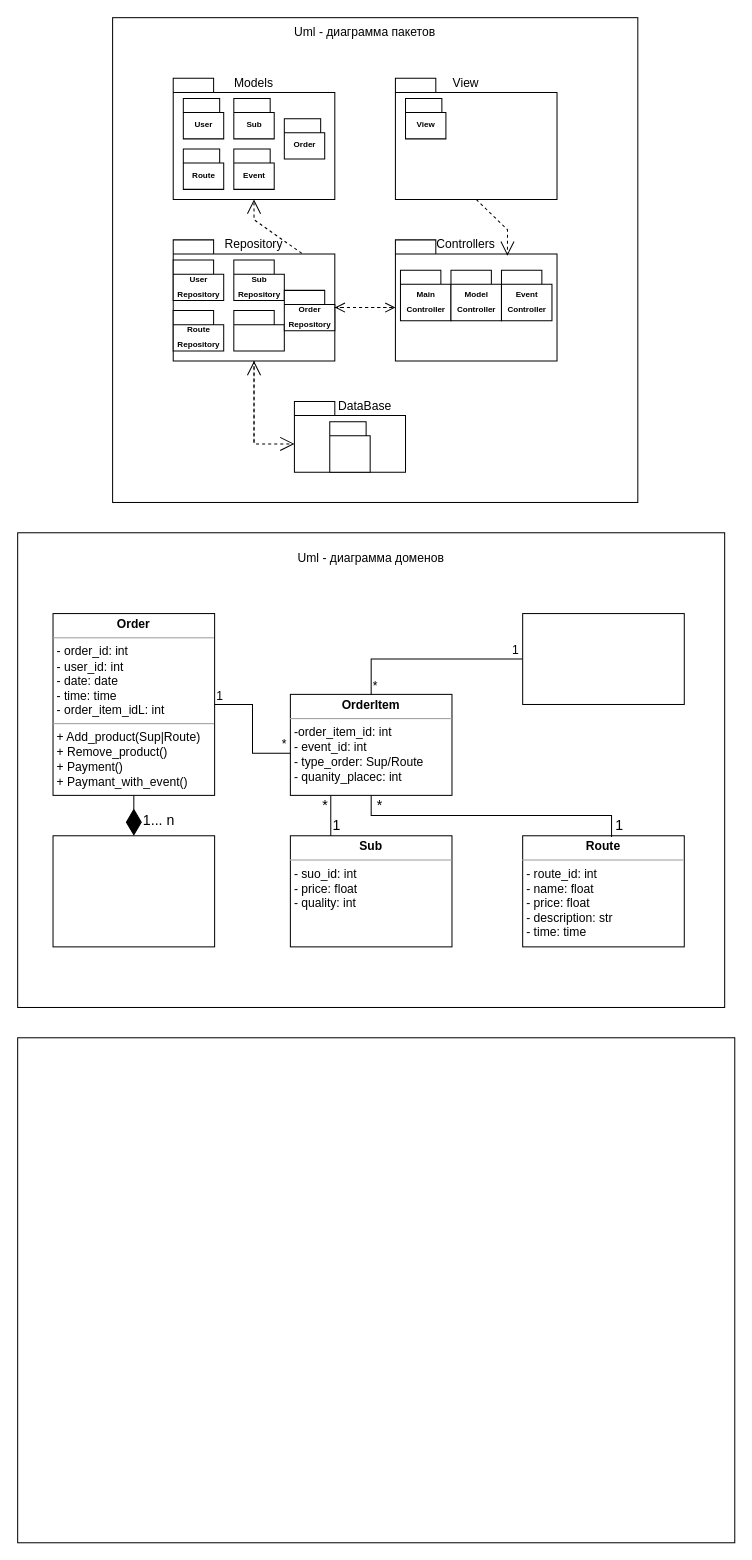
Some shapes in this 752 by 1560 pixel diagram are drawn without their labels. Here are the shapes that lost their labels. From the top down, the box of each, then its label:
(233, 310, 284, 351): Event Repository
(329, 421, 370, 472): Data Base
(522, 613, 684, 704): Event - event_id: int - event_name: str - evnt_sales: float
(52, 835, 215, 947): User - user_id: int - name: str - surname: str - phone: int - email: str
(17, 1037, 735, 1543): Uml - обновления приложеия
